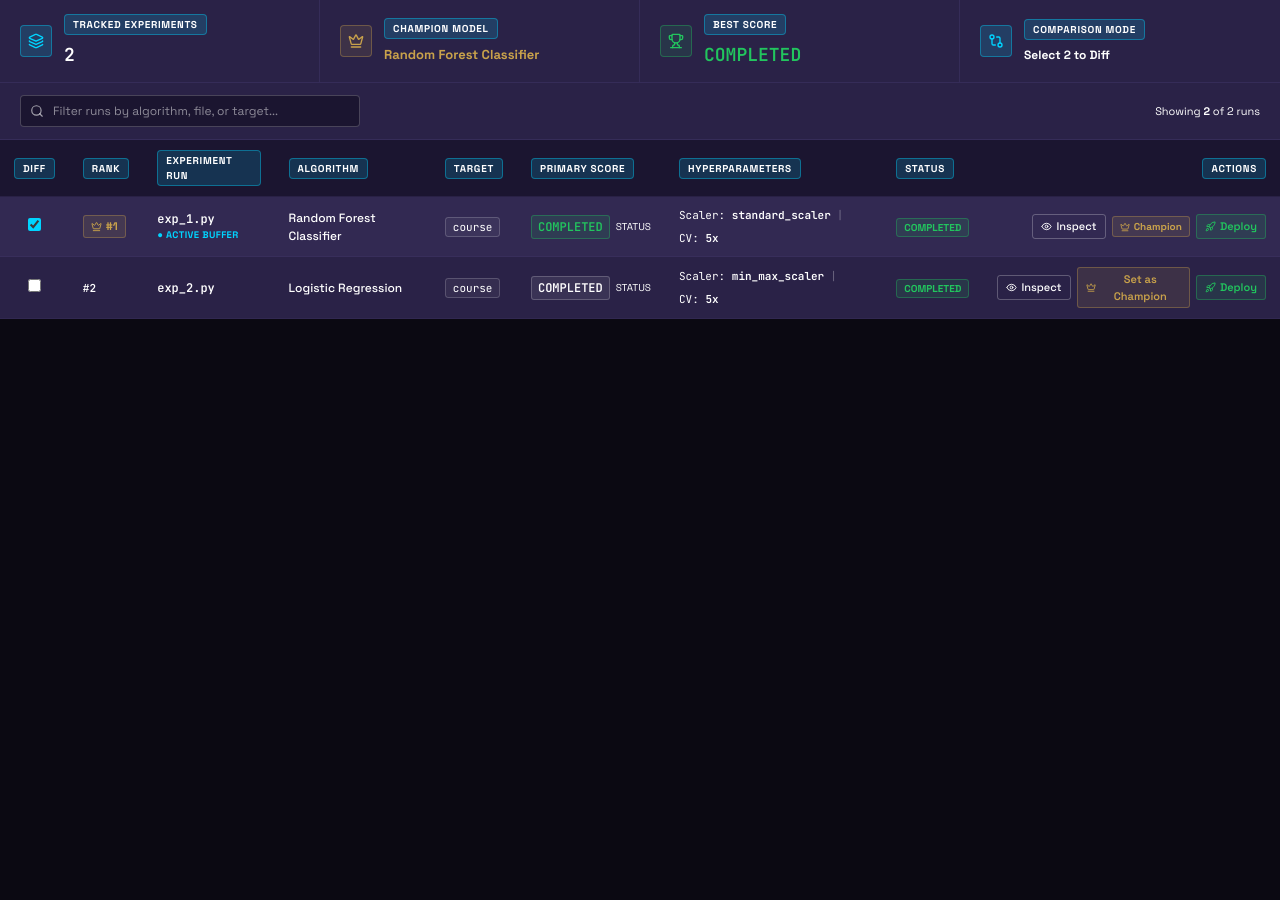
it: Experiment Tracking & Model Diagnostics › ExperimentLeaderboard › enables side-by-side hyperparameter diff when two runs are selected
Click the checkbox in the row of "exp_2.py" at (34, 285), box [28,278,41,292]
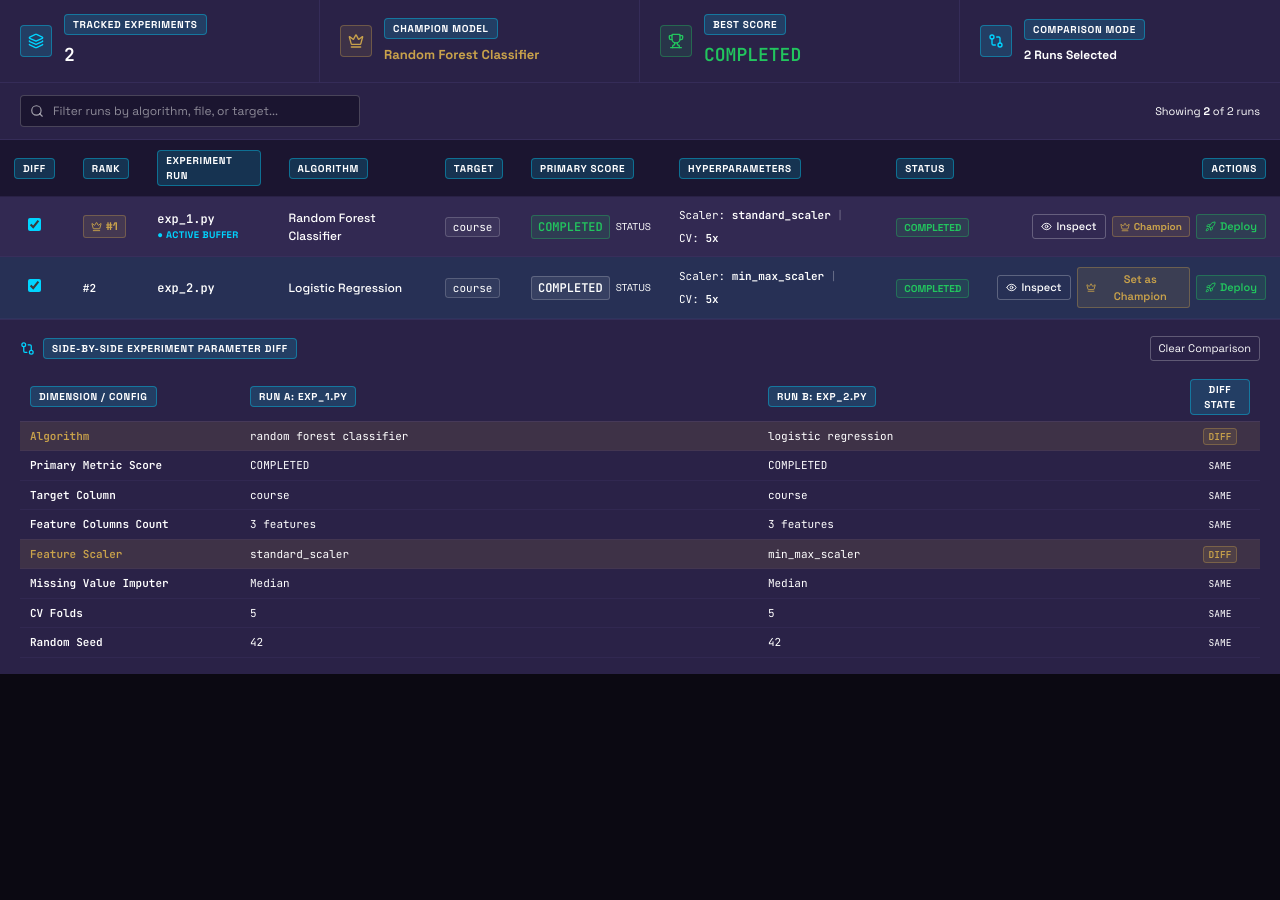
Now the text "Side-by-Side Experiment Parameter Diff" is shown, box [43,338,297,359]
